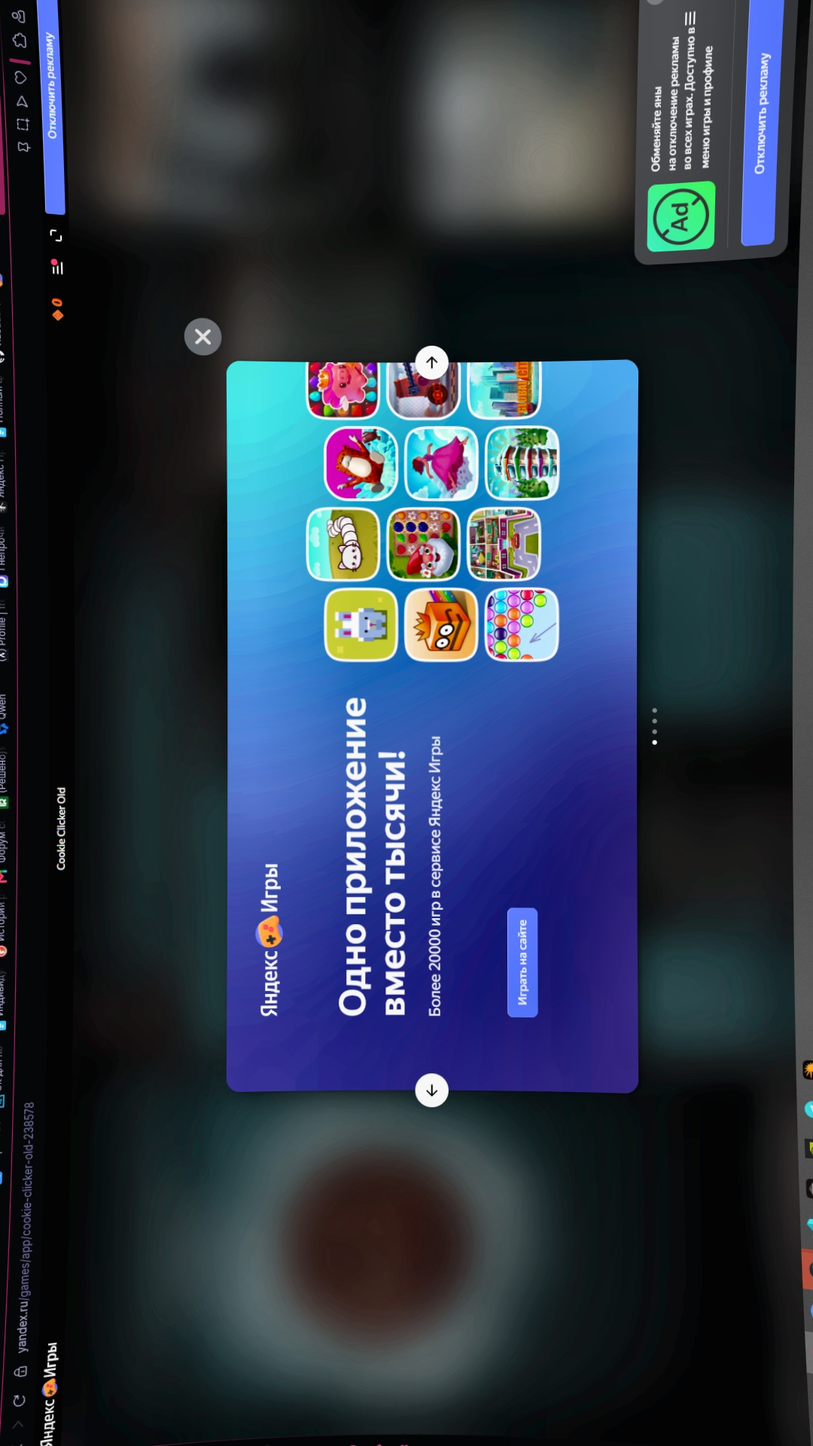game: (291, 1152, 471, 1333)
